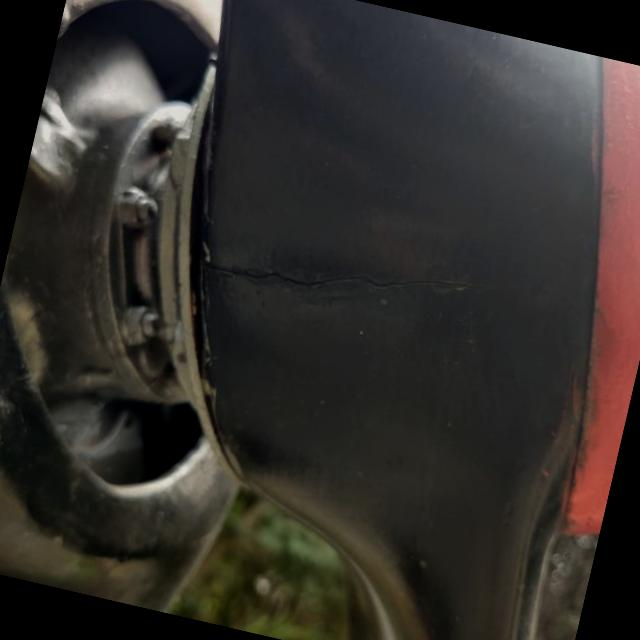crack: (172, 181, 505, 386)
